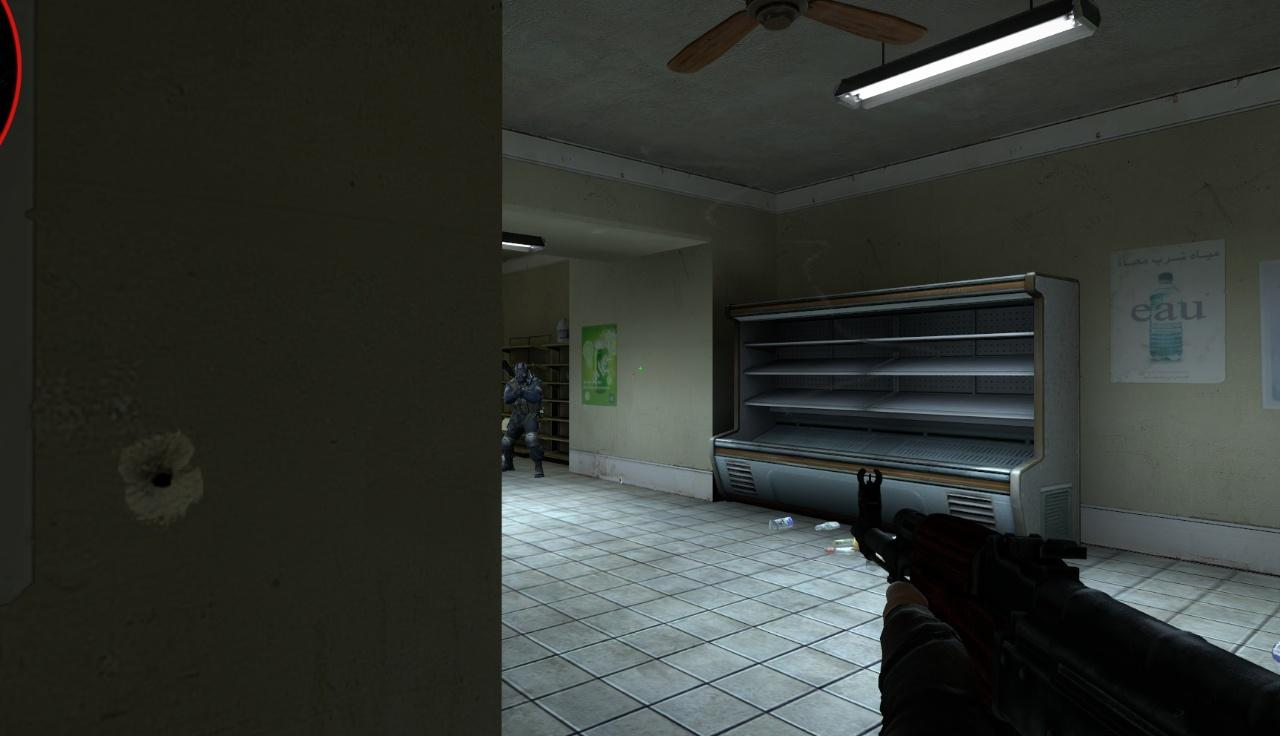ct: (502, 363, 544, 479)
cthead: (514, 363, 531, 384)
rifle: (850, 466, 1280, 736)
